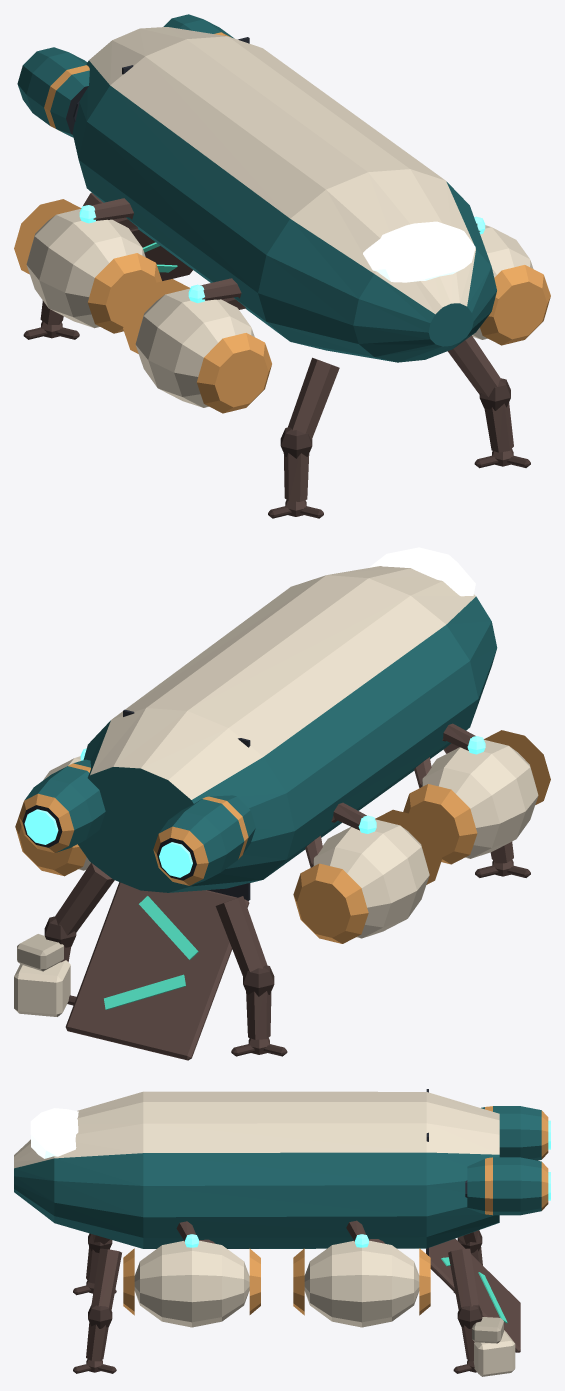
The model's file is spo-f_offen.glb.
3 views of the same model, one above another, from view 1: azimuth 30°, elevation 25°; view 2: azimuth 150°, elevation 25°; view 3: azimuth 270°, elevation 25° (orthographic). The views are drawn at different scales.
Visible parts, largest first — view 1: rumpf, frachtkammer_2, frachtkammer_4, frachtkammer_1, cockpit, landebein_2, triebwerk_r, landebein_1, rampe, landebein_4, wurzelstrebe_4, wurzelstrebe_2 (+1 smaller); view 2: rumpf, rampe, frachtkammer_4, frachtkammer_2, triebwerk_r, triebwerk_l, landebein_4, ladung, landebein_3, cockpit, frachtkammer_3, wurzelstrebe_4 (+2 smaller); view 3: rumpf, frachtkammer_1, frachtkammer_3, triebwerk_l, rampe, landebein_1, triebwerk_r, landebein_3, ladung, cockpit, landebein_2, landebein_4 (+2 smaller).
Part boxes in pixels (left/top/right/bottom): rumpf: left=72, top=27, right=496, bottom=362; frachtkammer_2: left=123, top=279, right=271, bottom=413; frachtkammer_4: left=14, top=199, right=161, bottom=333; frachtkammer_1: left=472, top=225, right=550, bottom=345; cockpit: left=363, top=221, right=475, bottom=282; landebein_2: left=268, top=357, right=339, bottom=518; triebwerk_r: left=17, top=47, right=89, bottom=137; landebein_1: left=447, top=335, right=530, bottom=468; rampe: left=130, top=228, right=192, bottom=280; landebein_4: left=23, top=192, right=103, bottom=339; wurzelstrebe_4: left=79, top=198, right=137, bottom=230; wurzelstrebe_2: left=188, top=278, right=245, bottom=309; rumpf: left=78, top=566, right=497, bottom=892; rampe: left=65, top=882, right=249, bottom=1060; frachtkammer_4: left=293, top=809, right=441, bottom=943; frachtkammer_2: left=403, top=730, right=550, bottom=864; triebwerk_r: left=153, top=795, right=255, bottom=885; triebwerk_l: left=18, top=759, right=105, bottom=852; landebein_4: left=215, top=896, right=287, bottom=1056; ladung: left=14, top=934, right=70, bottom=1016; landebein_3: left=44, top=862, right=114, bottom=1005; cockpit: left=369, top=547, right=475, bottom=596; frachtkammer_3: left=15, top=756, right=90, bottom=876; wurzelstrebe_4: left=305, top=802, right=376, bottom=867; rumpf: left=14, top=1091, right=499, bottom=1248; frachtkammer_1: left=123, top=1240, right=260, bottom=1327; frachtkammer_3: left=293, top=1240, right=430, bottom=1327; triebwerk_l: left=465, top=1157, right=550, bottom=1215; rampe: left=426, top=1238, right=520, bottom=1352; landebein_1: left=73, top=1248, right=121, bottom=1373; triebwerk_r: left=481, top=1106, right=550, bottom=1160; landebein_3: left=448, top=1248, right=482, bottom=1373; ladung: left=472, top=1317, right=515, bottom=1376; cockpit: left=30, top=1108, right=78, bottom=1158; landebein_2: left=73, top=1233, right=116, bottom=1295; landebein_4: left=453, top=1230, right=482, bottom=1293.
Size of the model in its own units: 0.105 by 0.0788 by 0.1659.
